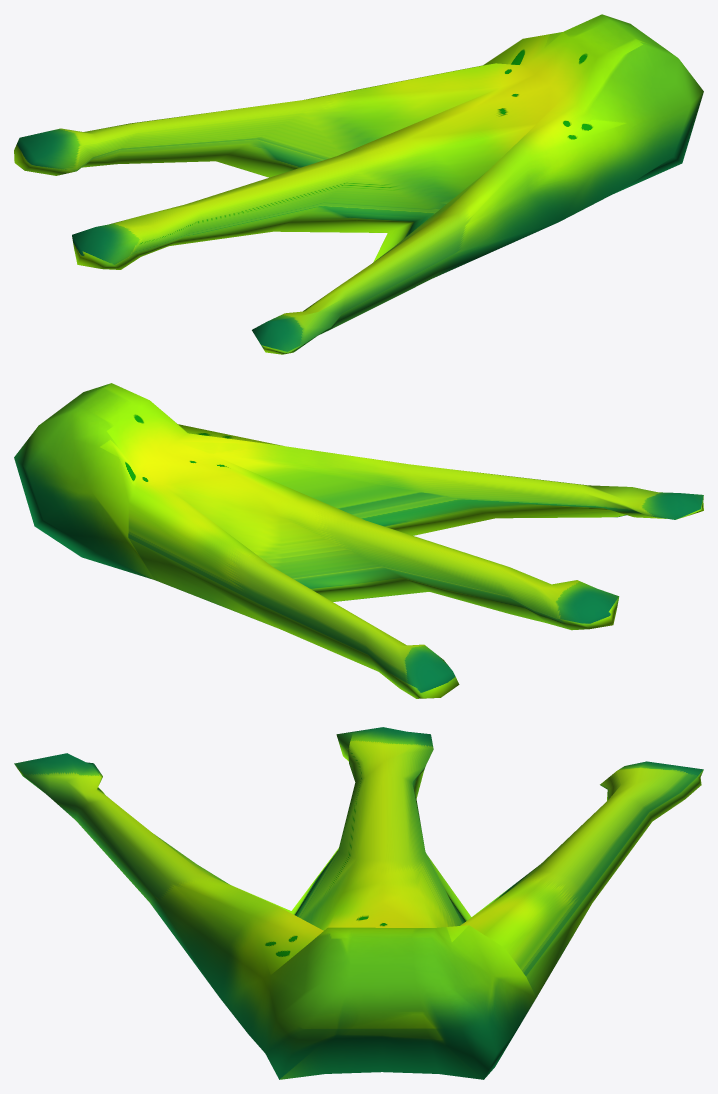
Rendered from FrogFeet.fbx.
3 renders of one model, top to bottom at view 1: azimuth 30°, elevation 25°; view 2: azimuth 150°, elevation 25°; view 3: azimuth 270°, elevation 25°, orthographic. The views are drawn at different scales.
Visible parts, largest first — view 1: pCube1; view 2: pCube1; view 3: pCube1.
Part boxes in pixels (x1,y1,x2,y2): pCube1: [14, 14, 703, 354]; pCube1: [14, 383, 703, 698]; pCube1: [14, 727, 703, 1079].
Bounding box in the file's own units: 853 × 707 × 170.
1 material, 1 textured.
